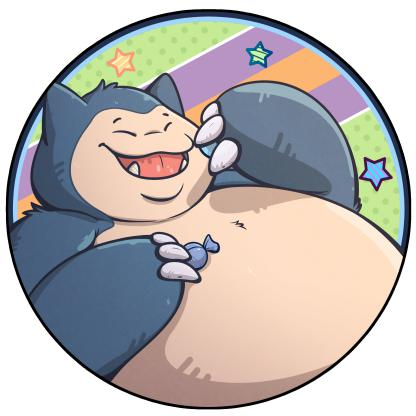Snorlax: (9, 46, 403, 395)
